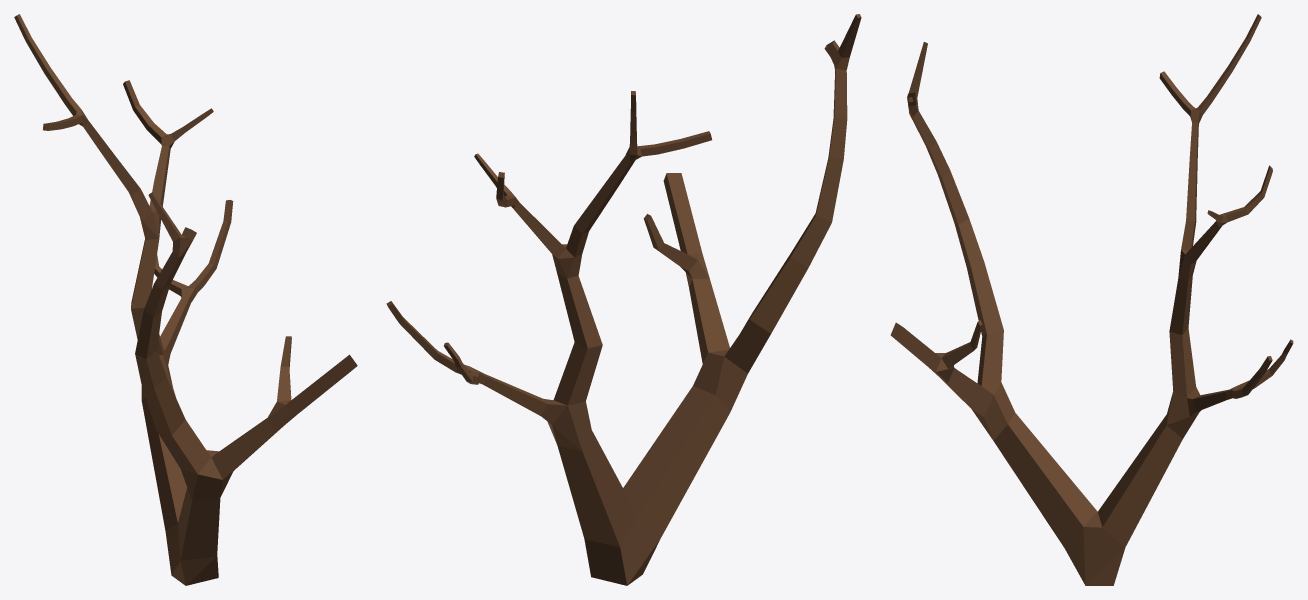
Rendered from mesh_bush_ded_02.fbx.
The picture shows the model from 3 angles, left to right: view 1: azimuth 30°, elevation 25°; view 2: azimuth 150°, elevation 25°; view 3: azimuth 270°, elevation 25°; orthographic projection. The views are drawn at different scales.
Parts seen in each view (by area): view 1: mesh_bush_ded_02; view 2: mesh_bush_ded_02; view 3: mesh_bush_ded_02.
Part boxes in pixels (x1,y1,x2,y2): mesh_bush_ded_02: (14,14,357,585); mesh_bush_ded_02: (386,14,861,585); mesh_bush_ded_02: (890,14,1293,585).
Size of the model in its own units: 45 by 87.09 by 61.51.
